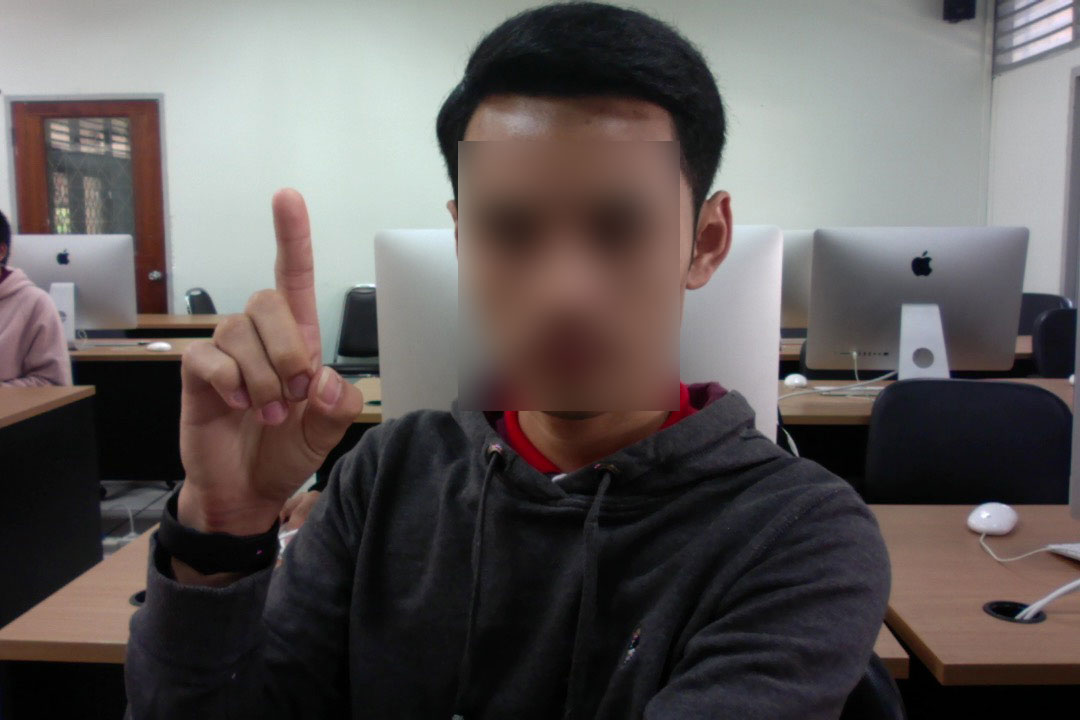dor: (161, 175, 368, 505)
